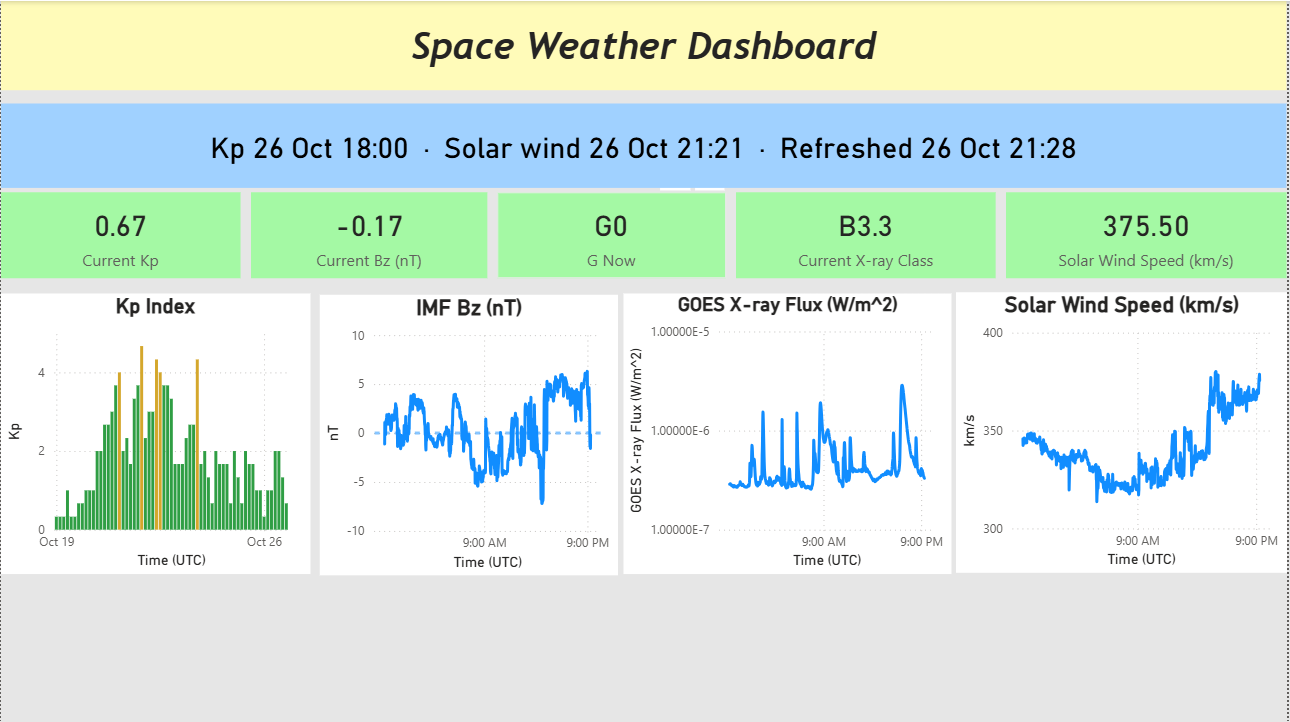

Layout of this report page (visuals, bound fields, positions):
{"tool":"powerbi","page":{"name":"Page 1","canvas":[1280,720],"ordinal":0},"visuals":[{"type":"card","fields":{"Values":["Alerts.Current Kp"]},"box":[0,190.6,238.2,85.8],"z":0},{"type":"card","fields":{"Values":["Alerts.G Now"]},"box":[494.1,190.6,227.3,85.8],"z":1000},{"type":"card","fields":{"Values":["Alerts.Solar Wind Speed (km/s)"]},"box":[1000.4,190.6,279,85.8],"z":2000},{"type":"card","fields":{"Values":["Alerts.Current Bz (nT)"]},"box":[248.4,190.6,235.5,85.8],"z":3000},{"type":"card","fields":{"Values":["Alerts.Current X-ray Class"]},"box":[731.6,190.6,258.6,85.8],"z":4000},{"type":"card","fields":{"Values":["Alerts.Data As Of (UTC)"]},"box":[0,102.1,1279.5,84.4],"z":5000},{"type":"lineChart","title":"Solar Wind Speed (km/s)","fields":{"Y":["Avg(SolarWindPlasma.speed)"],"Category":["SolarWindPlasma.time_tag.Variation.Date Hierarchy.Year"]},"box":[950.1,289.9,329.4,279],"z":6000},{"type":"lineChart","title":"IMF Bz (nT)","fields":{"Category":["SolarWindMag.time_tag"],"Y":["Avg(SolarWindMag.bz_gsm)"]},"box":[317.1,292.6,296.7,279],"z":7000},{"type":"clusteredColumnChart","title":"Kp Index","fields":{"Category":["Kp.time_tag"],"Y":["Avg(Kp.kp)"]},"box":[0,291.3,307.6,279],"z":8000},{"type":"lineChart","title":"GOES X-ray Flux (W/m^2)","fields":{"Category":["XRayFlux.time_tag"],"Y":["Max(XRayFlux.flux)"]},"box":[619.3,291.3,326.7,279],"z":9000},{"type":"textbox","box":[0,0,1279.5,88.5],"z":10000}]}

Visuals, with their boxes in screenshot pixels (x1, y1, x2, y2), scaled from the page's 1280x720 canvas onto the 1290x722 screenshot:
card - Alerts.Current Kp: 0 191 240 277
card - Alerts.G Now: 498 191 727 277
card - Alerts.Solar Wind Speed (km/s): 1008 191 1289 277
card - Alerts.Current Bz (nT): 250 191 488 277
card - Alerts.Current X-ray Class: 737 191 998 277
card - Alerts.Data As Of (UTC): 0 102 1289 187
"Solar Wind Speed (km/s)" lineChart: 958 291 1289 570
"IMF Bz (nT)" lineChart: 320 293 619 573
"Kp Index" clusteredColumnChart: 0 292 310 572
"GOES X-ray Flux (W/m^2)" lineChart: 624 292 953 572
textbox: 0 0 1289 89
